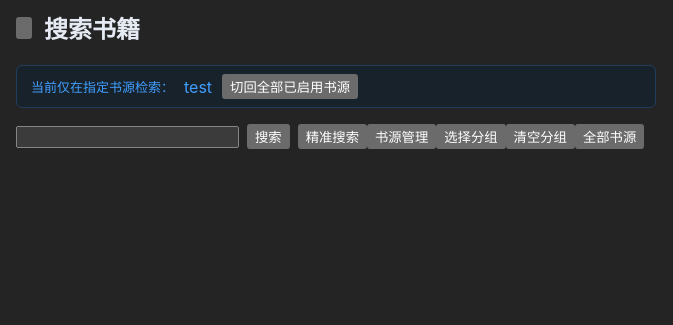
Scenario: 乱序返回时只有最新请求更新结果及加载状态
Type "old" into the field.
click(128, 136); type("old")  # box [16,126,239,148]
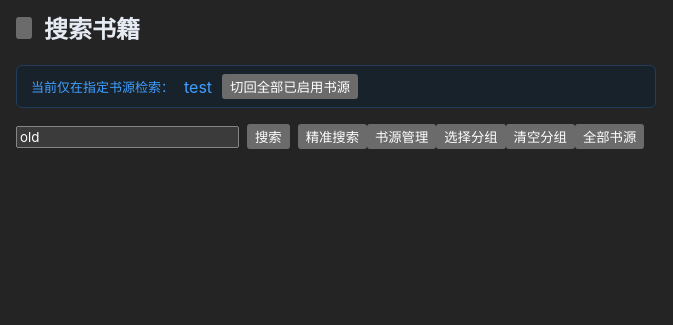
Press Enter in the field, box [16,126,239,148]
Replace the text in the field with "new" at (128, 136), box [16,126,239,148]
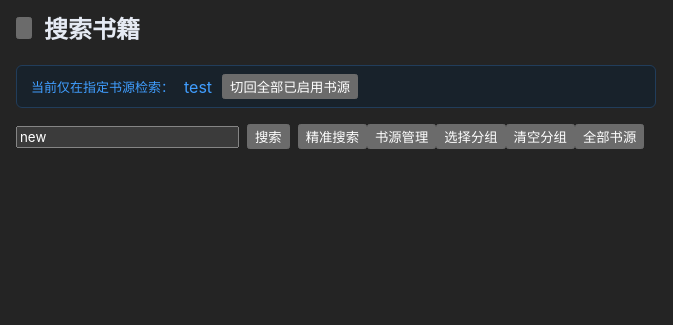
Press Enter in the field, box [16,126,239,148]
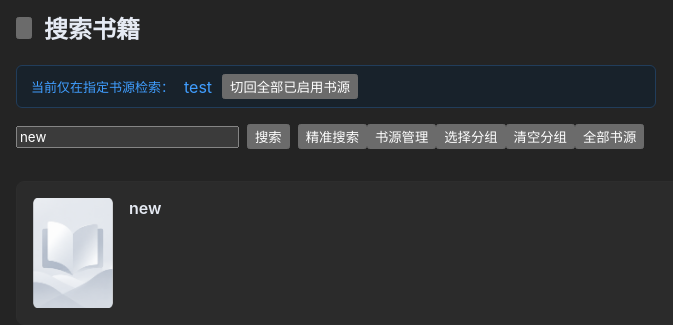
Expected: the button "搜索" is shown, [247,124,290,149]
Now the text "new" is shown, box [129,198,161,218]
